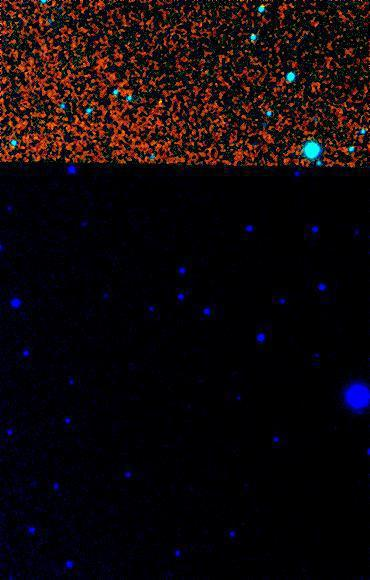star: (148, 88, 178, 118)
